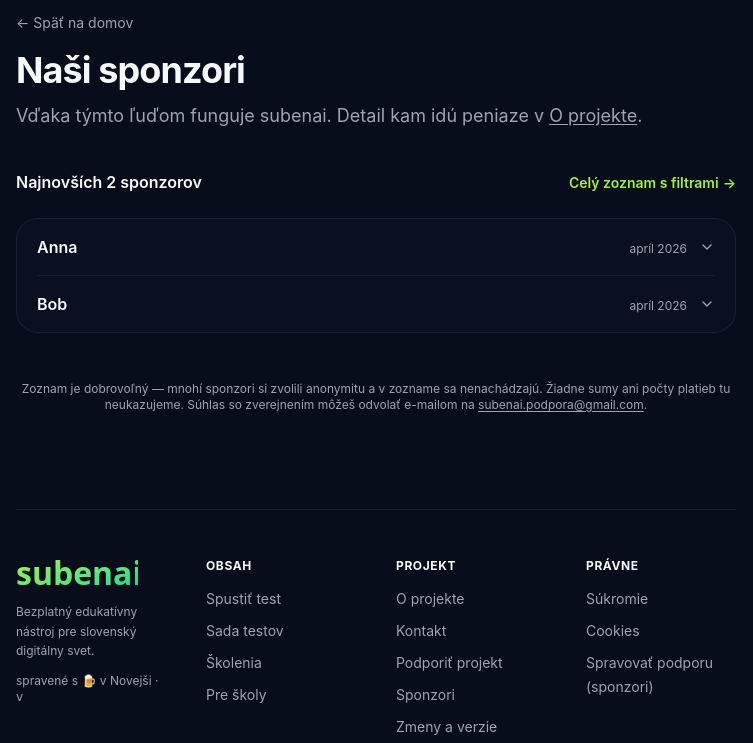
Test: SponzoriView (/sponzori) › renders accordion items per sponsor with link + message in expanded panel
The width and height of the screenshot is (753, 743).
Expected: the text "Anna" is shown, x1=37 y1=235 x2=77 y2=259
Expected: the text "Bob" is shown, x1=37 y1=292 x2=67 y2=316
Radix marks accordion content as hidden when collapsed — expand Bob's row first.
Click the button "Bob apríl 2026". click: [52, 304]
box: x1=37 y1=276 x2=715 y2=332
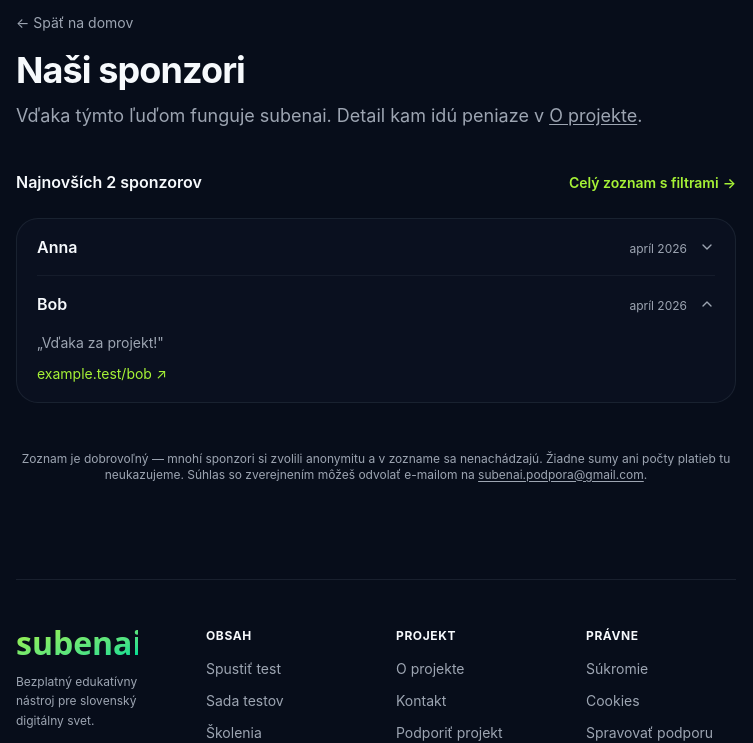
Expected: the text "„Vďaka za projekt!\"" is shown, x1=37 y1=334 x2=164 y2=351
